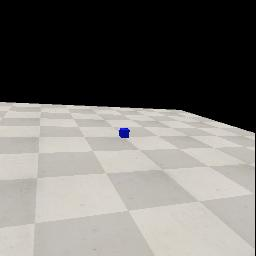box: (119, 128, 130, 138)
